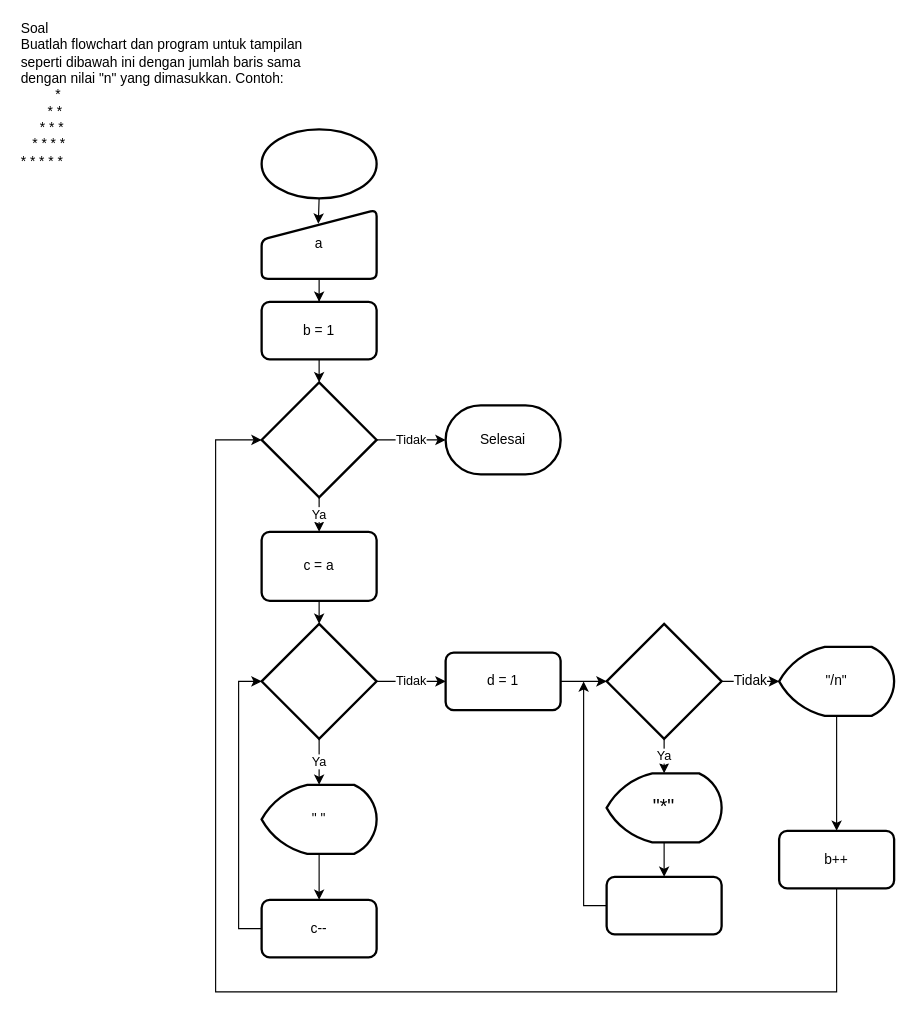
The diagram is 914 pixels wide and 1021 high, and some of its shapes have lost their labels. Here are the shapes that lost their labels. From the top down, the centre of each, then its label:
At point 318,163: "Mulai".
At point 318,439: "b <= a".
At point 318,680: "c >= b".
At point 663,680: "d <= b".
At point 663,905: "d++".
